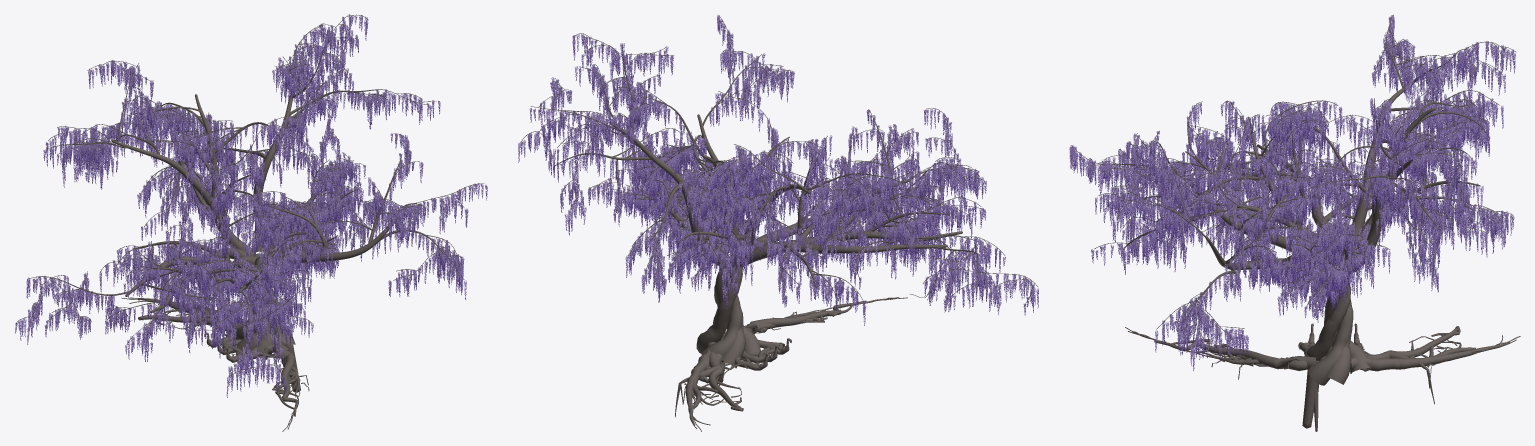
Rendered from wisteria_3.glb.
The picture shows the model from 3 angles, left to right: view 1: azimuth 30°, elevation 25°; view 2: azimuth 150°, elevation 25°; view 3: azimuth 270°, elevation 25°; orthographic projection. The views are drawn at different scales.
Parts seen in each view (by area): view 1: Wisteria3_Blossom, Wisteria3_Bark; view 2: Wisteria3_Blossom, Wisteria3_Bark; view 3: Wisteria3_Blossom, Wisteria3_Bark.
Part boxes in pixels (bbox=[...]): Wisteria3_Blossom: bbox=[15, 15, 487, 397]; Wisteria3_Bark: bbox=[16, 14, 484, 431]; Wisteria3_Blossom: bbox=[518, 15, 1038, 325]; Wisteria3_Bark: bbox=[520, 15, 1037, 431]; Wisteria3_Blossom: bbox=[1069, 14, 1515, 370]; Wisteria3_Bark: bbox=[1071, 15, 1520, 431].
Bounding box in the file's own units: 46.91 × 34.85 × 38.57.
Materials: 2 (1 with a texture image).
